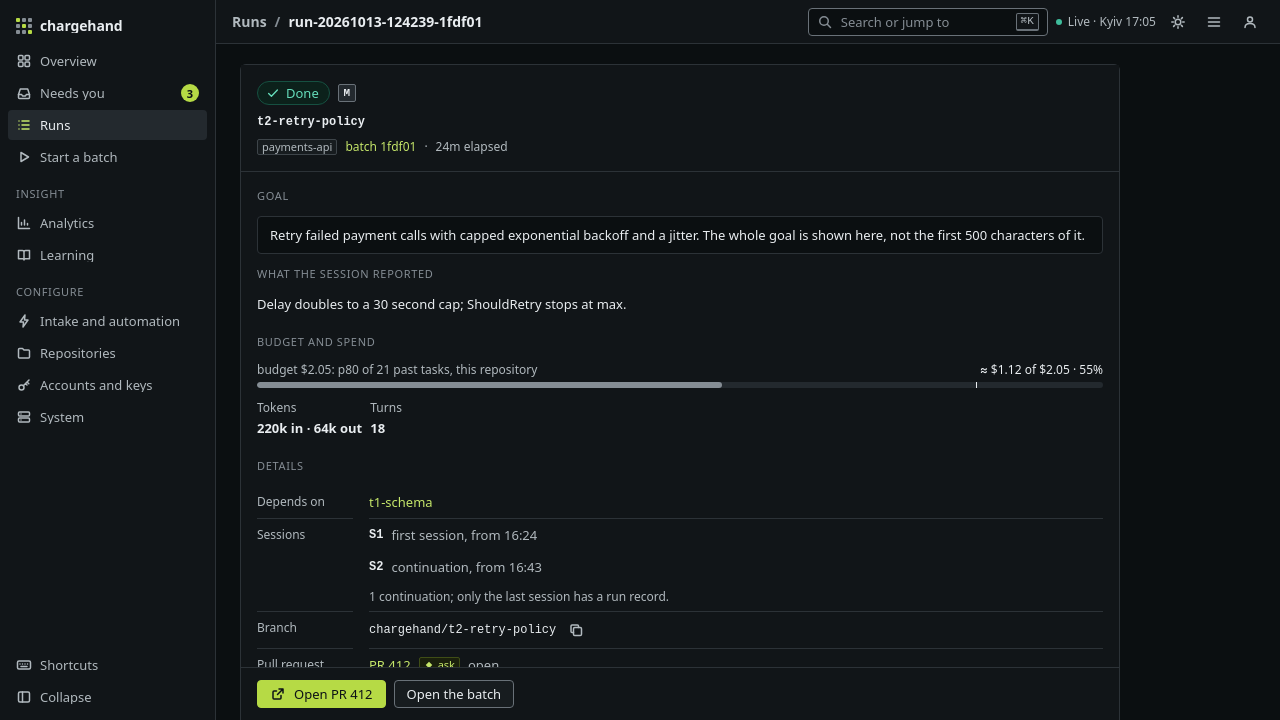
Scenario: a task as a page › copies the branch name, and says when the browser refuses
Click the button named "Copy the branch name" at [576, 630], box [564,618,588,642]
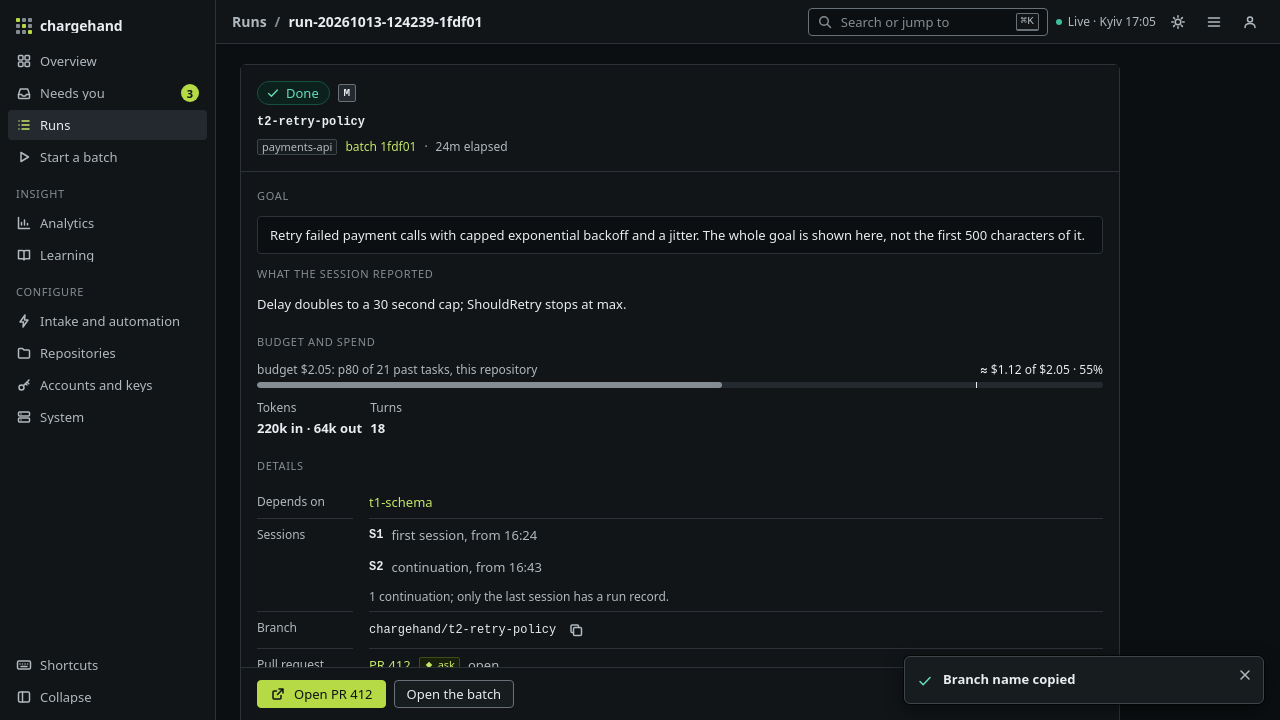
Now the text "Branch name copied" is shown, box [943,670,1075,688]
